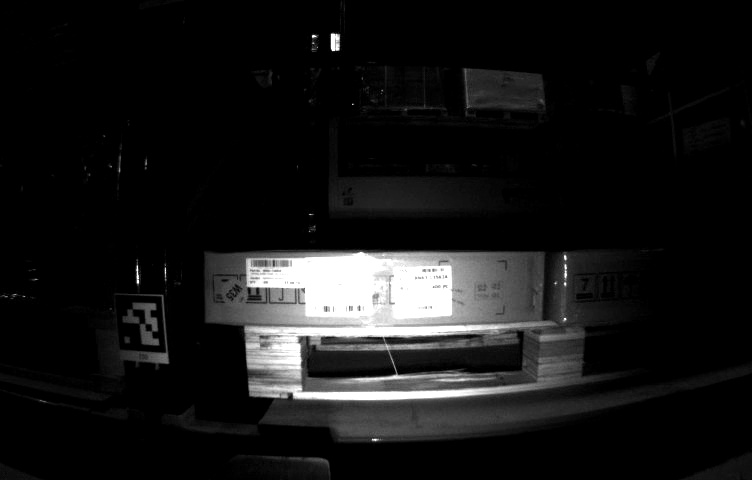True Barcode: (391, 268, 450, 314)
